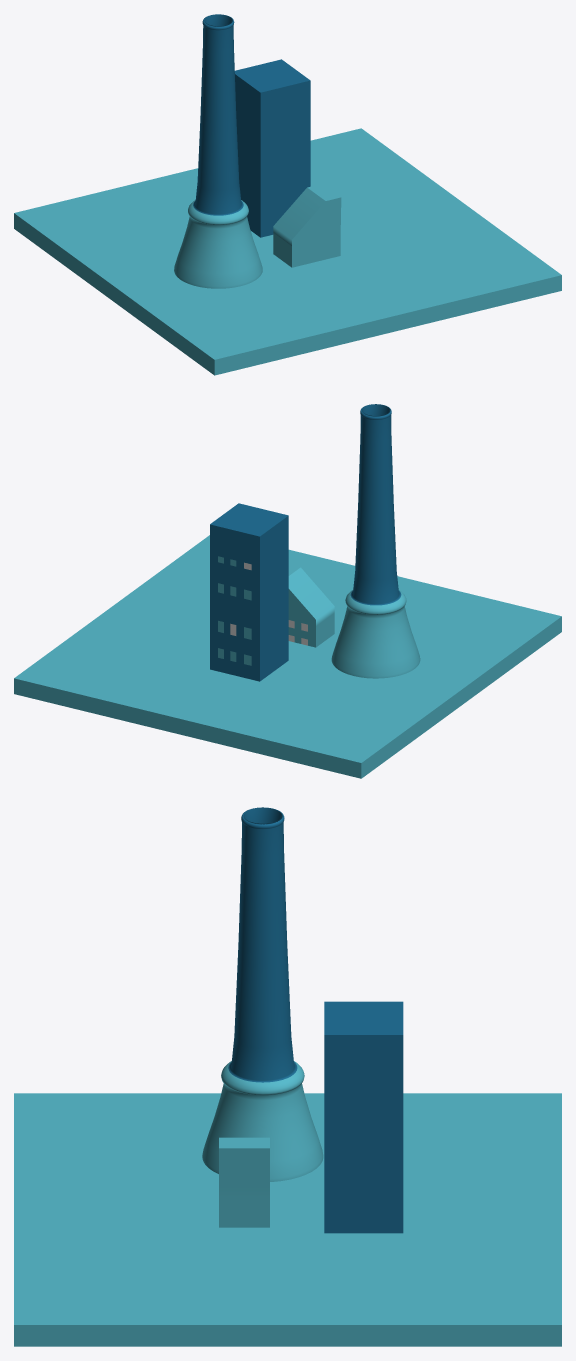
The model's file is factory_building-13.gltf.
The picture shows the model from 3 angles, top to bottom: view 1: azimuth 30°, elevation 25°; view 2: azimuth 150°, elevation 25°; view 3: azimuth 270°, elevation 25°; orthographic projection. The views are drawn at different scales.
Visible parts, largest first — view 1: pCube19, pCylinder6, pCube33, pCube36; view 2: pCube19, pCylinder6, pCube33, pCube36; view 3: pCube19, pCylinder6, pCube33, pCube36.
Boxes of the visible parts, bbox=[...] form: pCube19: bbox=[14, 128, 561, 375]; pCylinder6: bbox=[174, 14, 262, 288]; pCube33: bbox=[234, 59, 310, 237]; pCube36: bbox=[273, 183, 341, 267]; pCube19: bbox=[14, 535, 561, 778]; pCylinder6: bbox=[331, 404, 420, 678]; pCube33: bbox=[210, 503, 288, 681]; pCube36: bbox=[288, 564, 334, 647]; pCube19: bbox=[14, 1093, 561, 1346]; pCylinder6: bbox=[202, 807, 323, 1181]; pCube33: bbox=[324, 1001, 403, 1233]; pCube36: bbox=[219, 1137, 269, 1227].
Size of the model in its own units: 1.47 by 1.12 by 1.47.
